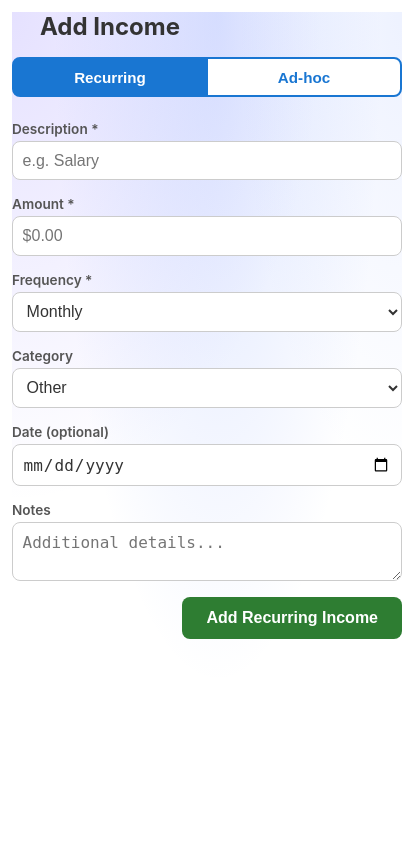
Scenario: AddIncomeView › switches to adhoc tab on click
The image size is (414, 856).
Click the button "Ad-hoc": point(304, 77) [207,57,402,97]
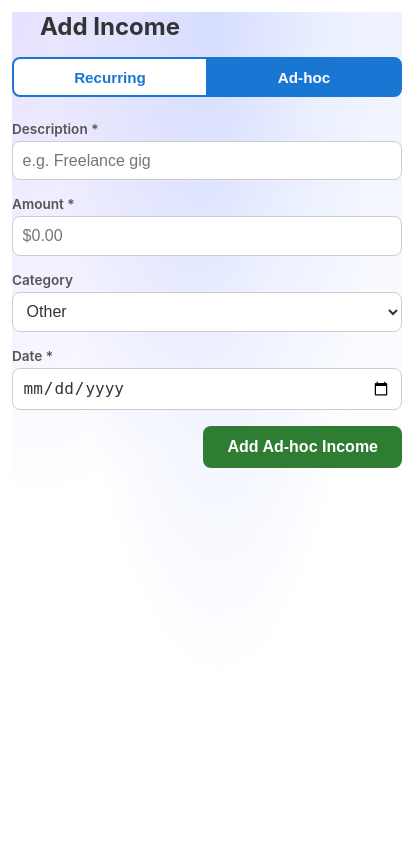
Expected: the text "Add Ad-hoc Income" is shown, [204,426,402,468]
